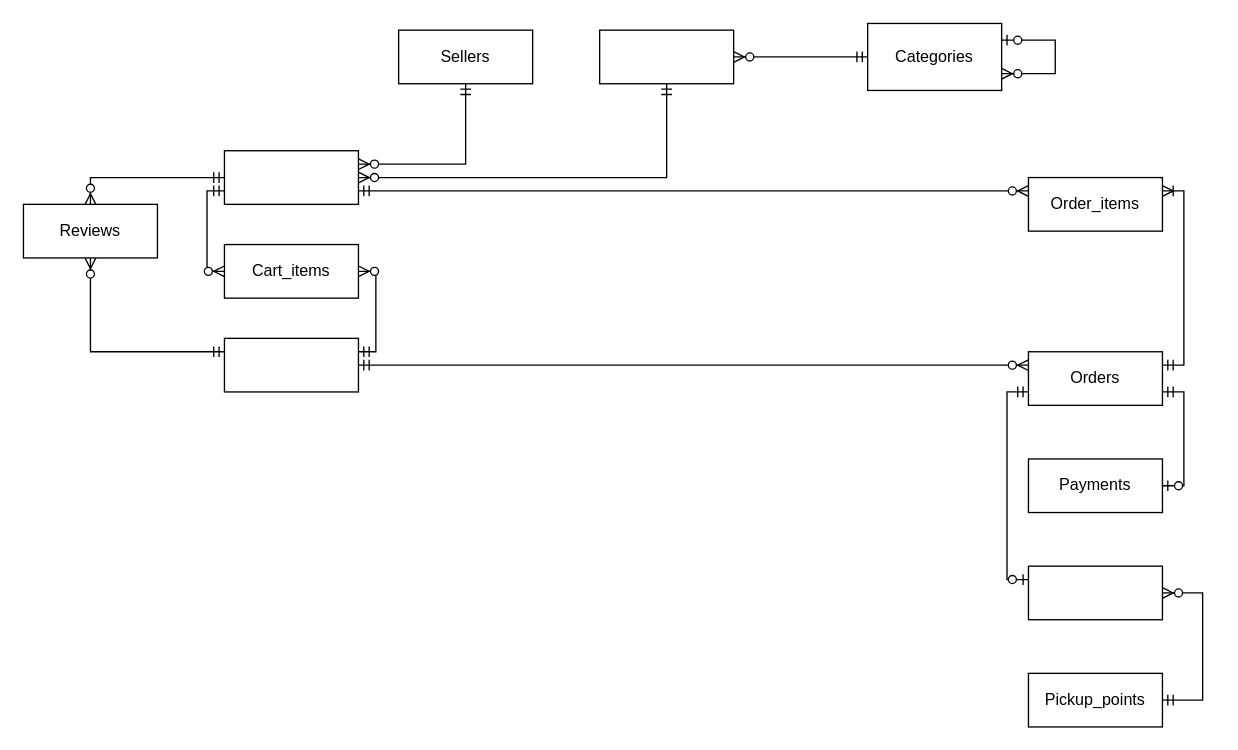
This 1238x750 diagram has some shape labels left out. Each missing label, with the centre of its shape:
Deliveries: pixel 1094 592
Offers: pixel 290 176
Products: pixel 666 56
Users: pixel 290 364
